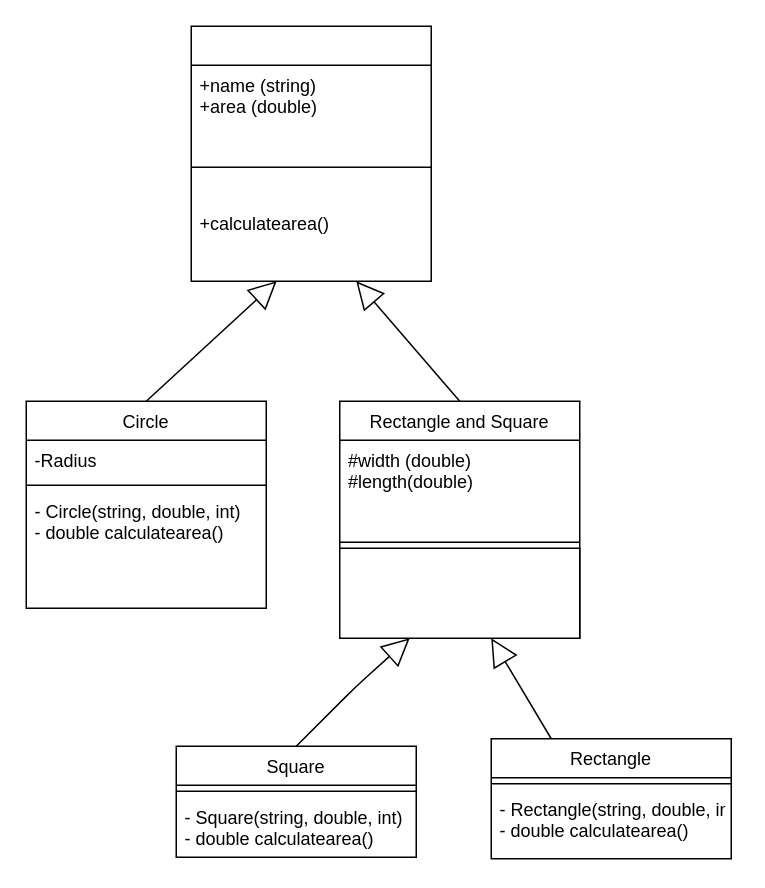
Image size: 765x888. Some labels were removed from this diagram. The shapes that lost their labels are listed below. From the top down, each one's box as (x1, y1, x2, y2) in pixels, then its label:
(190, 25, 431, 281): Shape
(338, 547, 580, 638): -RectangleandSquare (string, double, double, double) - double calculatearea()
